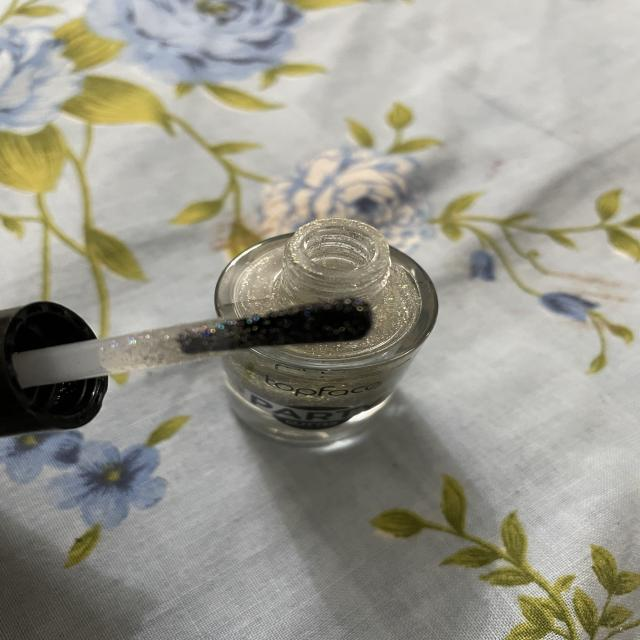nail polish: (187, 204, 462, 467), (0, 283, 386, 459)
